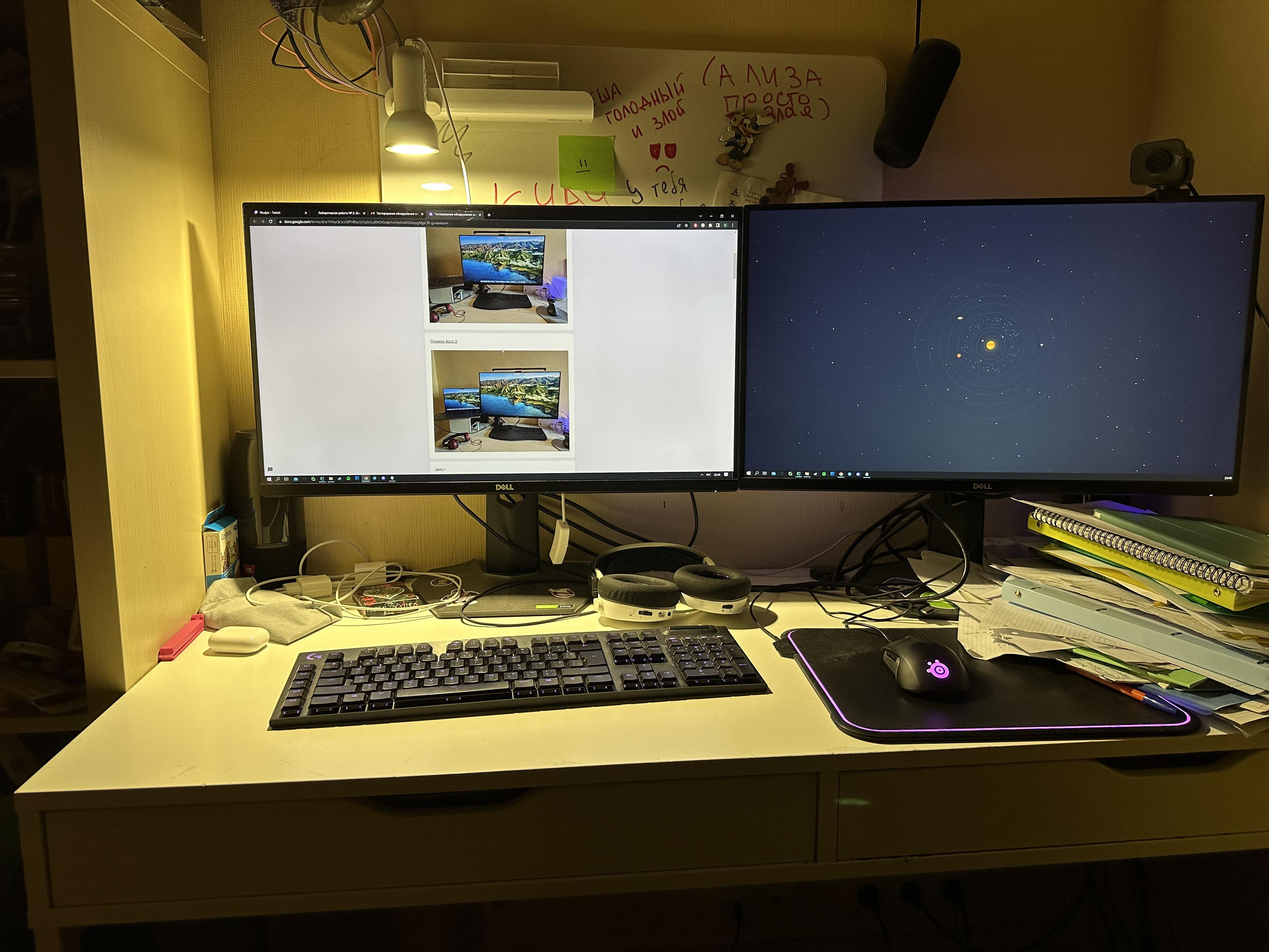monitor: (735, 189, 1268, 508), (230, 195, 747, 501)
